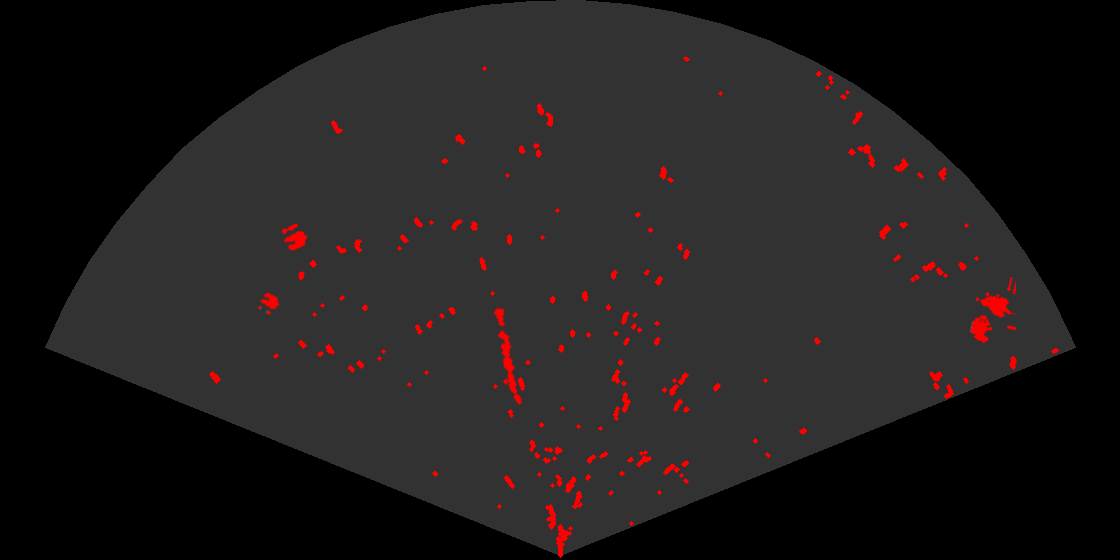ball: (280, 222, 309, 252), (256, 291, 281, 317)
cage: (969, 277, 1016, 345)
chain: (492, 304, 524, 407)
